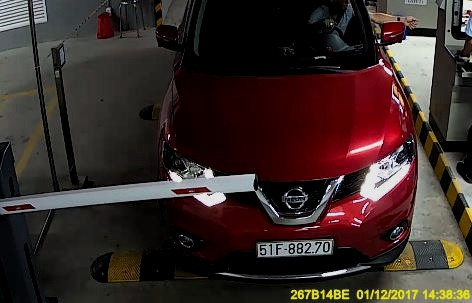plate: (255, 235, 334, 260)
